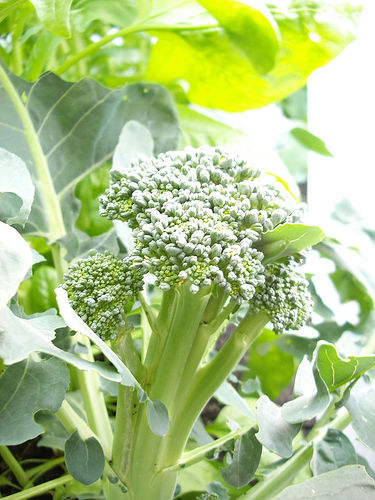broccoli: (63, 143, 312, 498)
